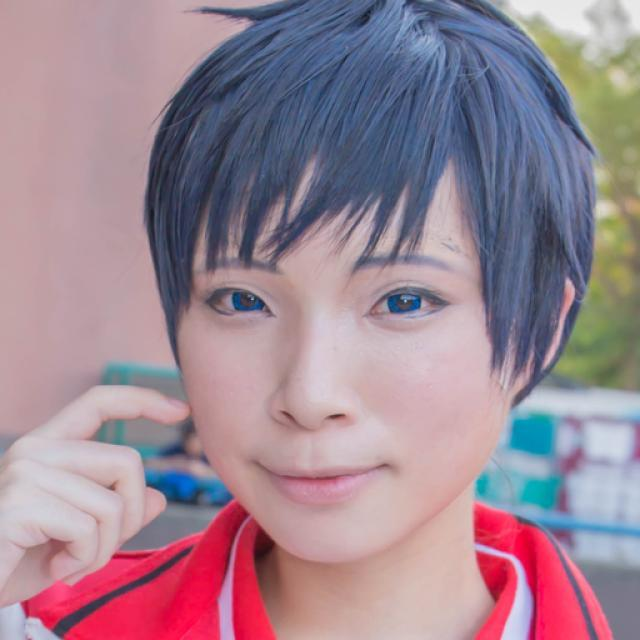neutral: (176, 139, 508, 567)
